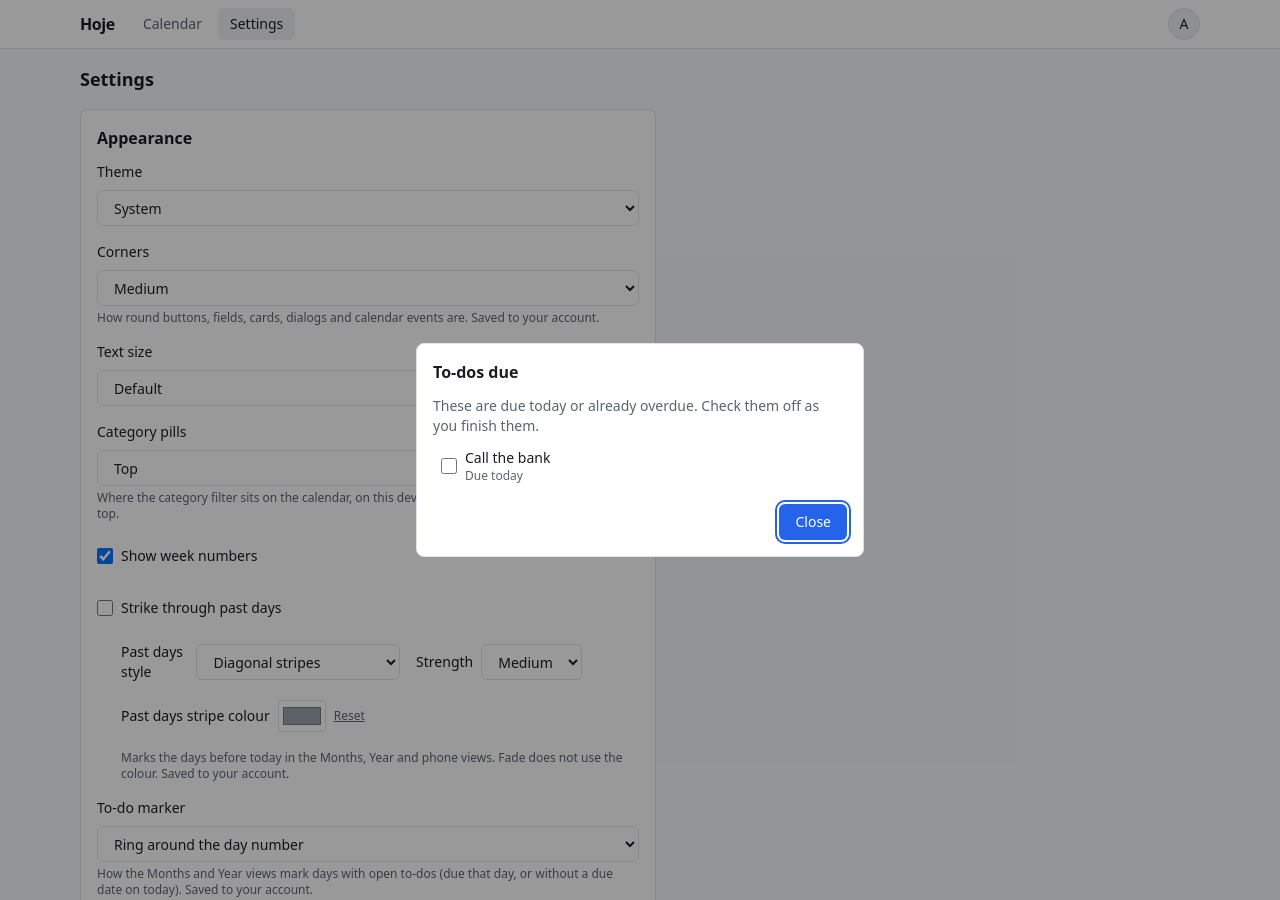
it: due to-dos pop-up › opens on page load with the to-dos due today or overdue and lets you check one off
Expected: the dialog "To-dos due" shows "Call the bank", [465,448,550,467]
Expected: the dialog "To-dos due" shows "due today", [465,467,523,484]
Click the checkbox labelled "Call the bank Due today".
click(449, 466)  # box [441,458,457,474]
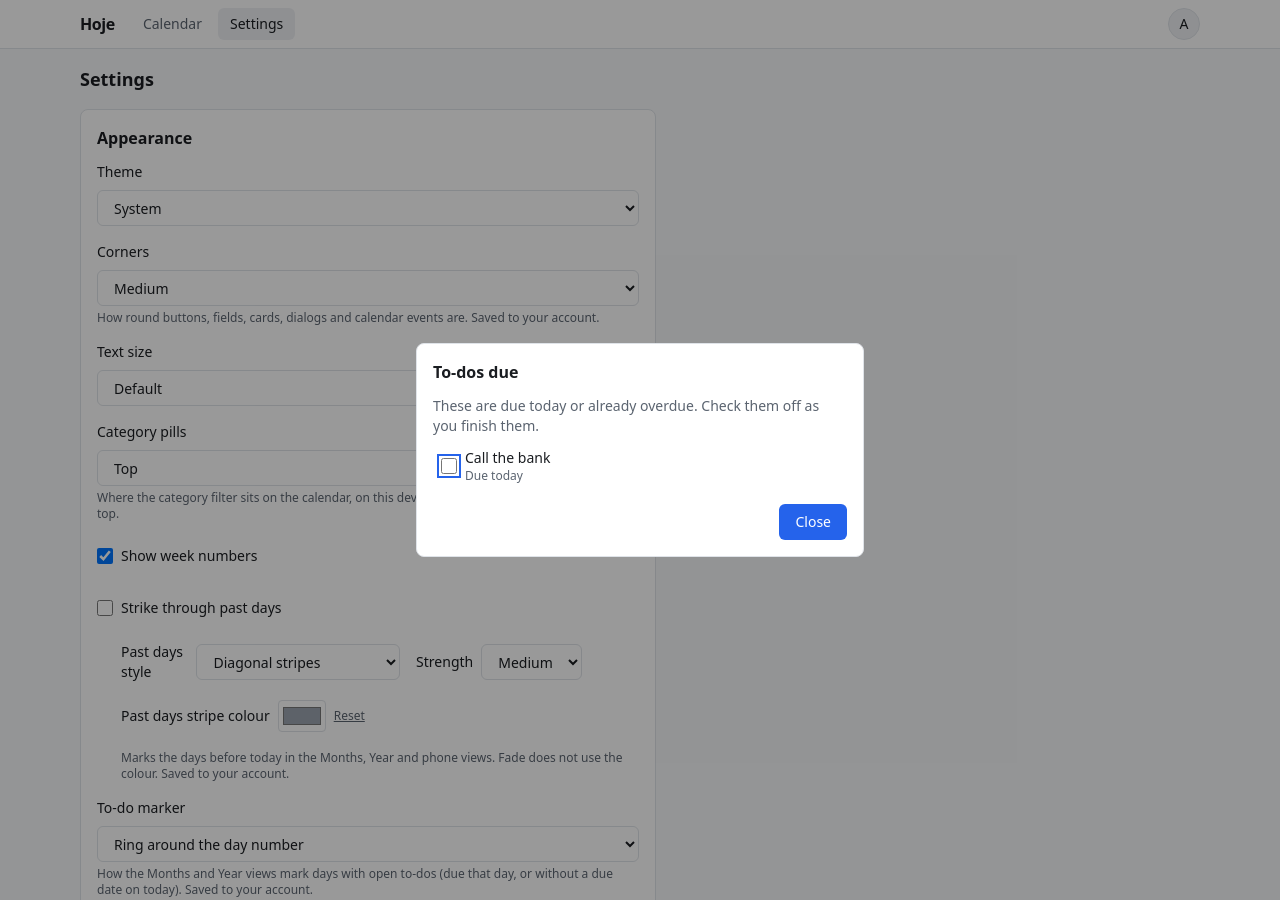
Click the button "Close".
click(813, 522)  # box [780,504,847,540]
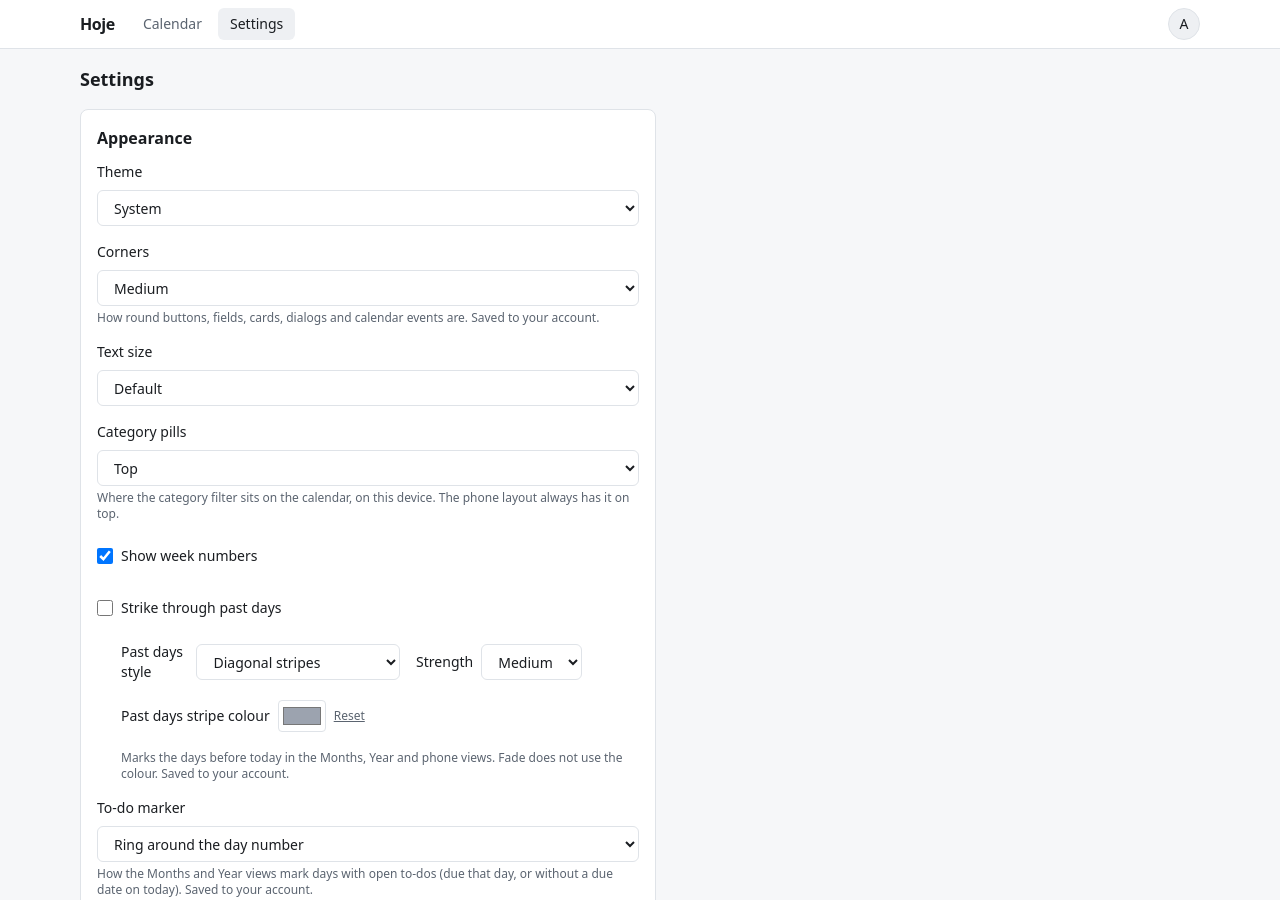
Result: the heading "To-dos due" is gone
